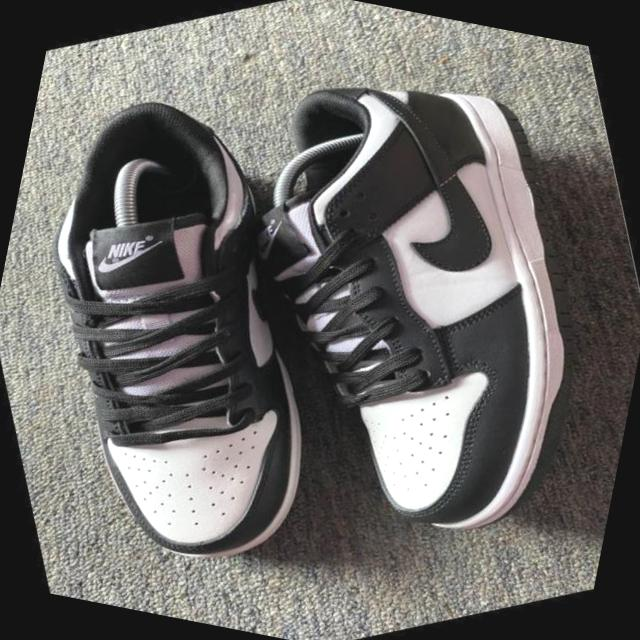nike_original_jordan: (147, 0, 640, 616), (0, 40, 430, 623)
